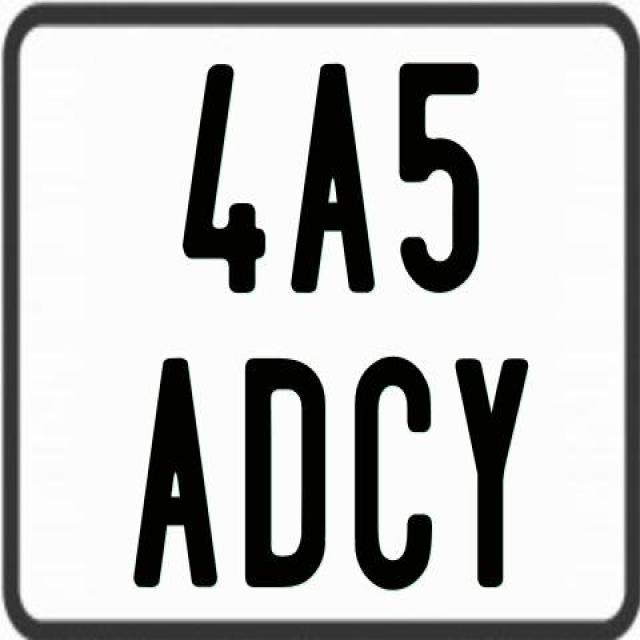4: (181, 64, 271, 302)
5: (394, 61, 476, 301)
A: (288, 63, 380, 300), (132, 356, 222, 594)
C: (351, 354, 436, 590)
D: (246, 357, 326, 596)
Y: (453, 357, 532, 587)
